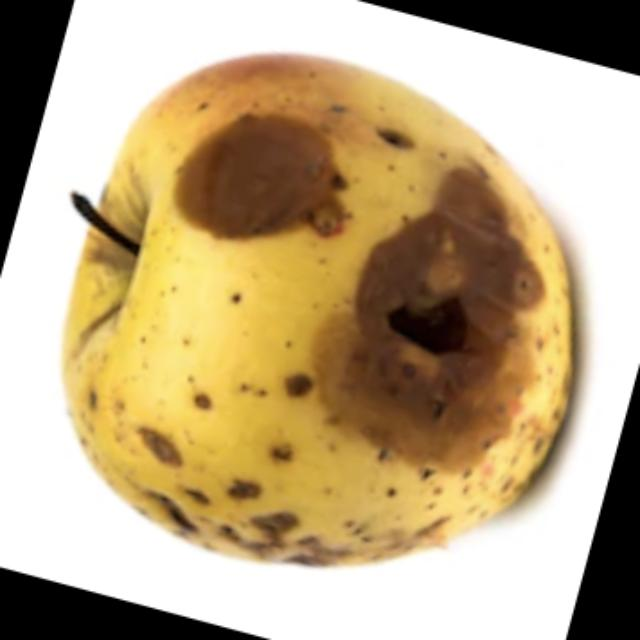Apel Tidak Segar: (50, 52, 593, 570)
